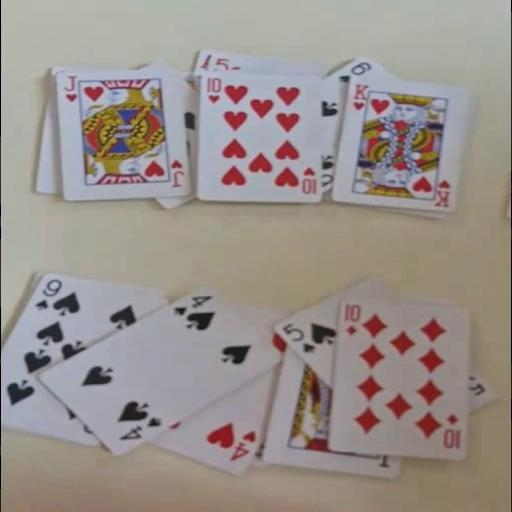10: (440, 411, 462, 450), (340, 300, 362, 337), (299, 164, 319, 195)
4: (115, 414, 163, 442), (170, 292, 215, 316), (226, 428, 257, 462)
5: (278, 320, 318, 354)
9: (30, 276, 64, 311)
J: (167, 157, 185, 188), (61, 74, 79, 104)
K: (430, 176, 452, 208), (349, 81, 370, 112)
